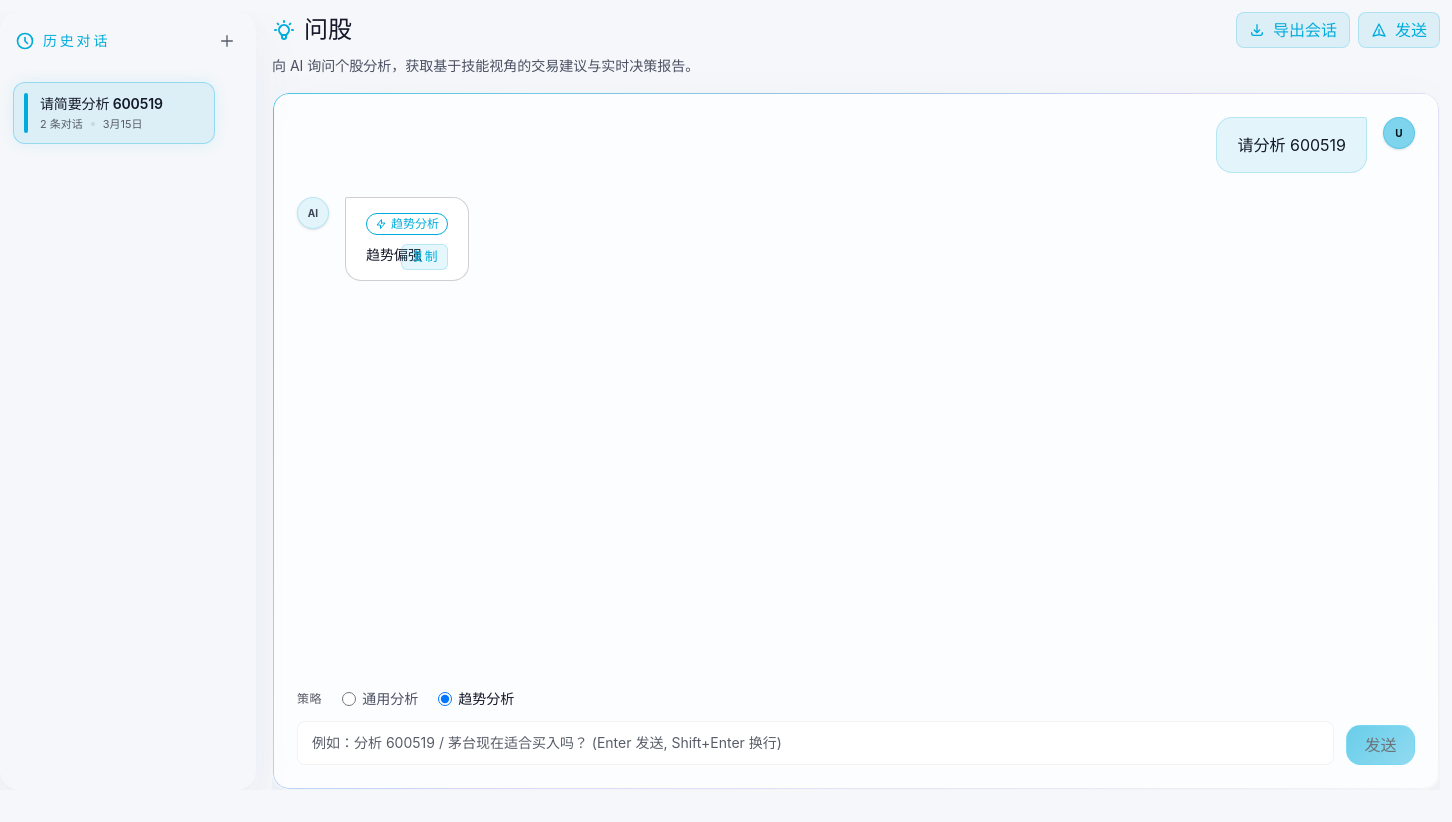
Test case: ChatPage › sends exported markdown to notification channel and shows success feedback
Click the button titled "发送到已配置的通知机器人/邮箱" in the row of "问股": (1399, 30) [1358,12,1440,48]
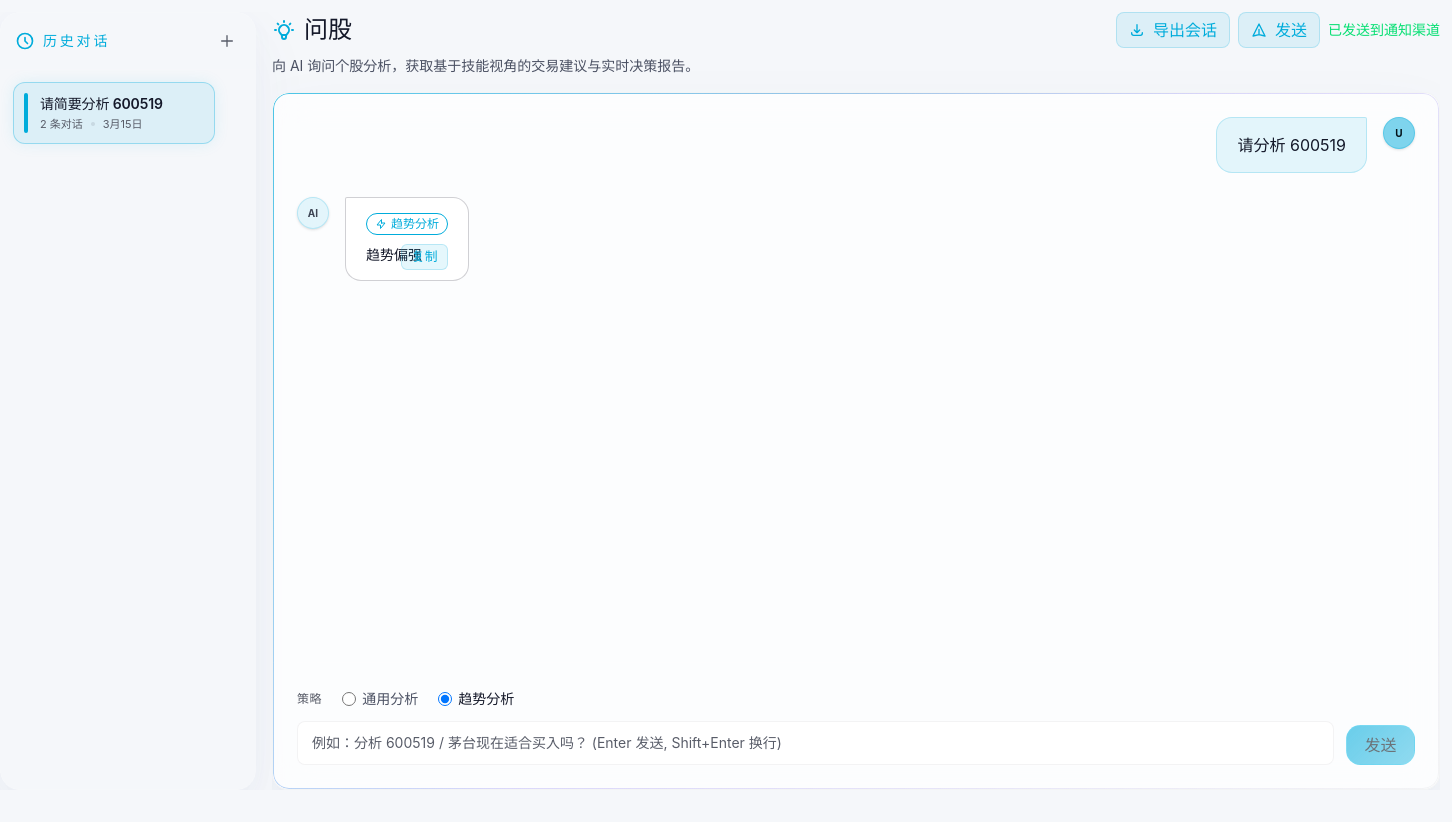
Now the text "已发送到通知渠道" is shown, box [1328,20,1440,40]
